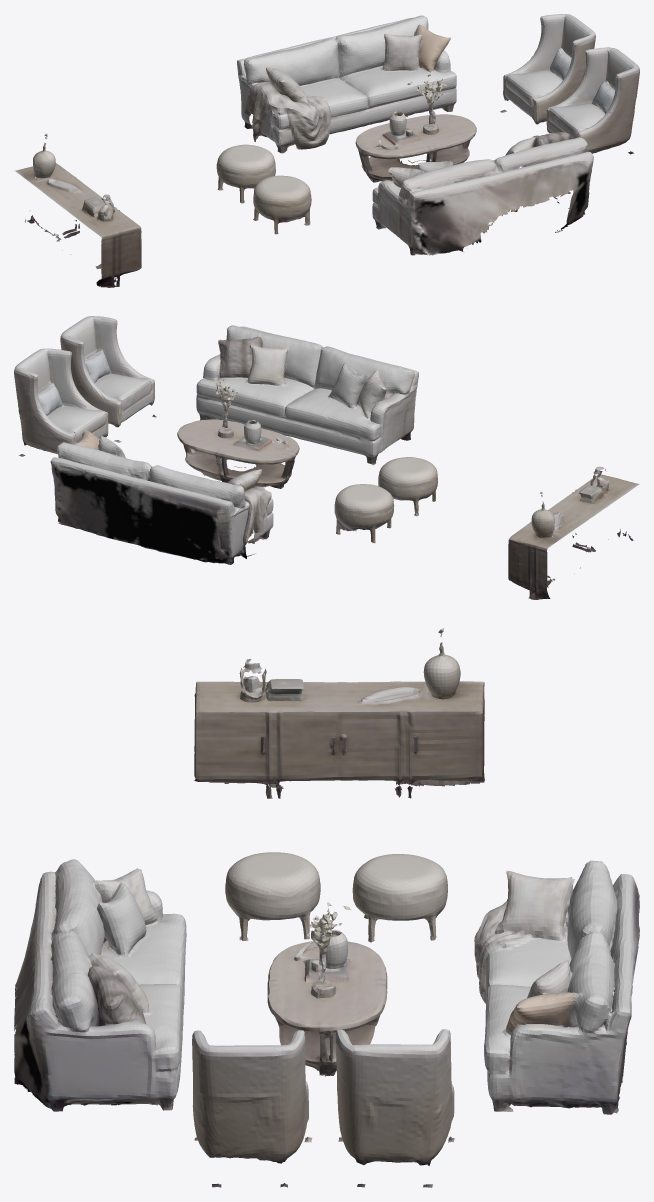
The picture shows the model from 3 angles, top to bottom: view 1: azimuth 30°, elevation 25°; view 2: azimuth 150°, elevation 25°; view 3: azimuth 270°, elevation 25°; orthographic projection. The views are drawn at different scales.
Parts seen in each view (by area): view 1: obj_1.ply; view 2: obj_1.ply; view 3: obj_1.ply.
Boxes of the visible parts, <box> form: obj_1.ply: <box>14,14,639,287</box>; obj_1.ply: <box>14,316,639,599</box>; obj_1.ply: <box>14,628,639,1187</box>.
Bounding box in the file's own units: 7 × 1.19 × 4.32.
